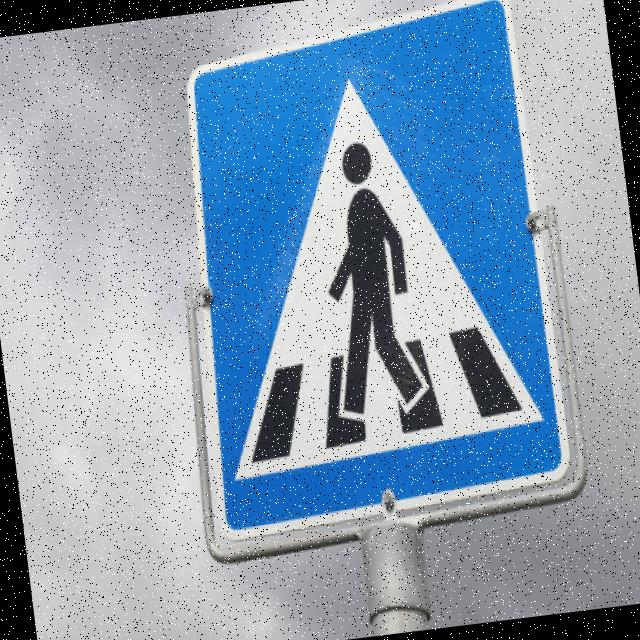crosswalk: (141, 0, 574, 554)
